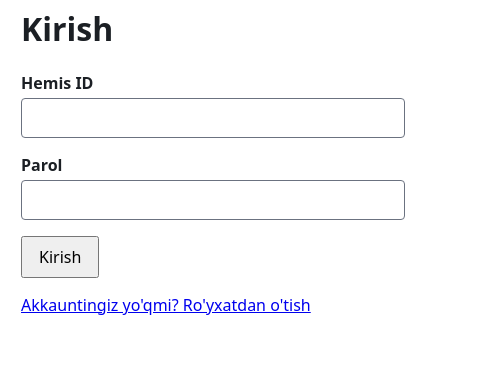
Test: /login (AUTH-02) › tarmoq xatosi — tushunarli xabar
Type "1" into the field labelled "Hemis ID".
click(213, 118); type("1")  # box left=21, top=98, right=405, bottom=138
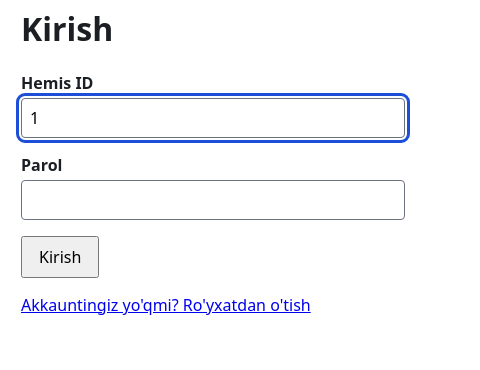
Type "x" into the password field labelled "Parol".
click(213, 200); type("x")  # box left=21, top=180, right=405, bottom=220
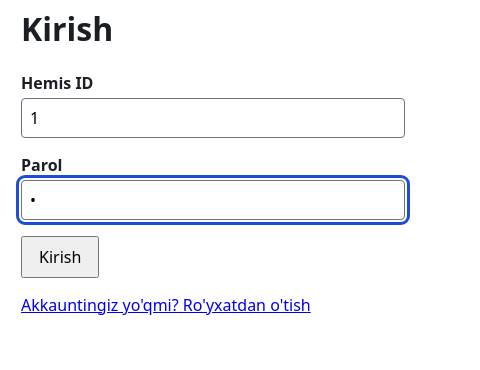
Click the button "Kirish".
click(60, 257)  # box left=21, top=236, right=99, bottom=278
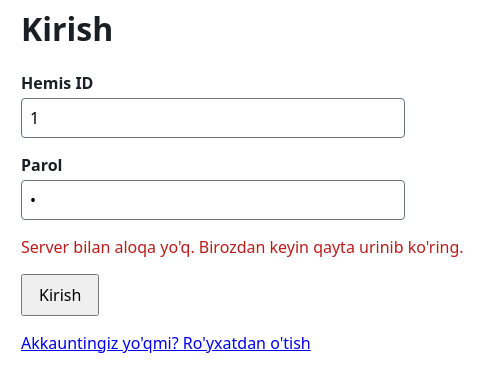
Now the message reads "Server bilan aloqa yo'q. Birozdan keyin qayta urinib ko'ring.", box left=21, top=236, right=464, bottom=258
